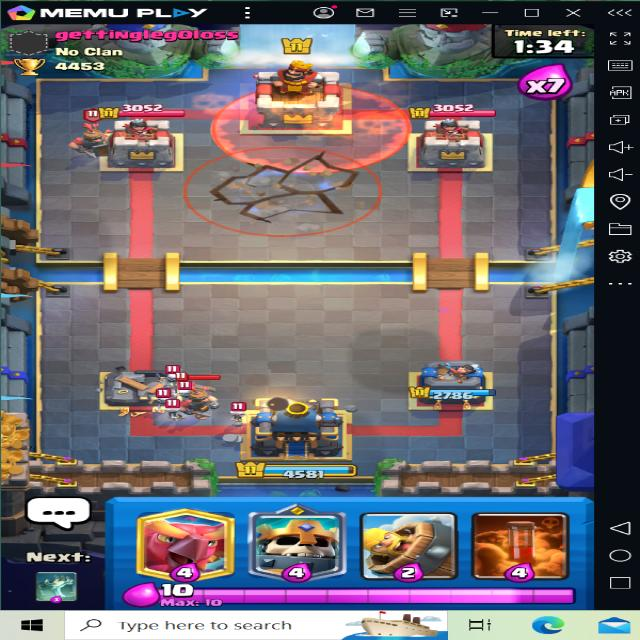poison: (183, 140, 394, 236), (207, 80, 411, 172)
royal-recruits: (73, 108, 125, 158), (178, 380, 225, 417)
skeleton: (228, 402, 255, 420), (165, 367, 191, 383), (166, 398, 187, 417), (177, 382, 196, 399)
